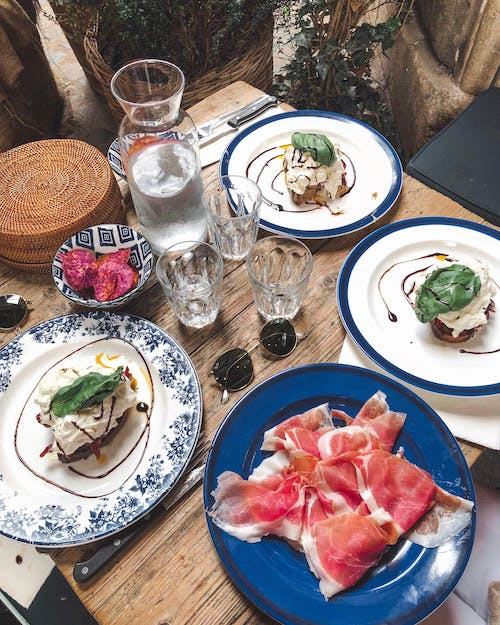knife: (71, 461, 206, 583), (198, 94, 280, 148)
